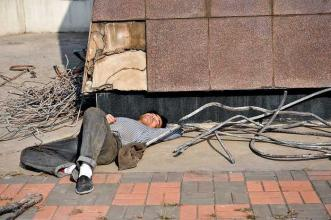fall: (14, 100, 178, 195)
